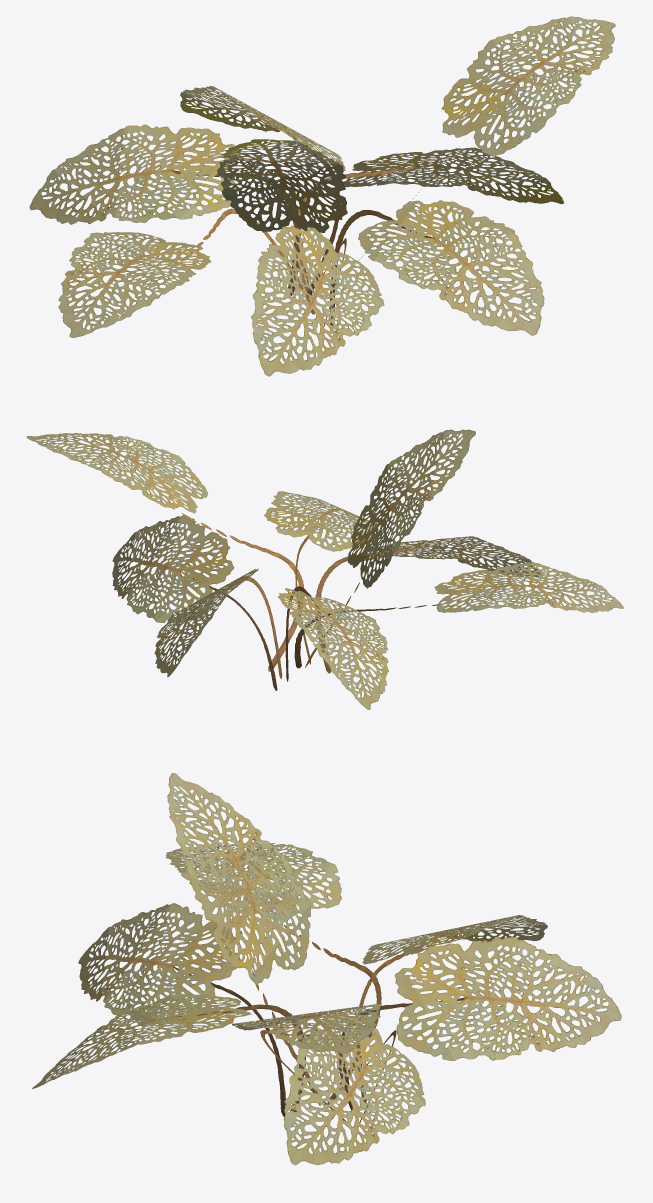
File: Spin Reef A2.fbx
3 views of the same model, one above another, from view 1: azimuth 30°, elevation 25°; view 2: azimuth 150°, elevation 25°; view 3: azimuth 270°, elevation 25° (orthographic). The views are drawn at different scales.
Visible parts, largest first — view 1: Spin Reef A2; view 2: Spin Reef A2; view 3: Spin Reef A2.
Boxes of the visible parts, x1,y1,x2,y2 form: Spin Reef A2: (29, 16, 615, 376); Spin Reef A2: (26, 429, 623, 709); Spin Reef A2: (32, 773, 621, 1165).
Size of the model in its own units: 242 by 102 by 190.
